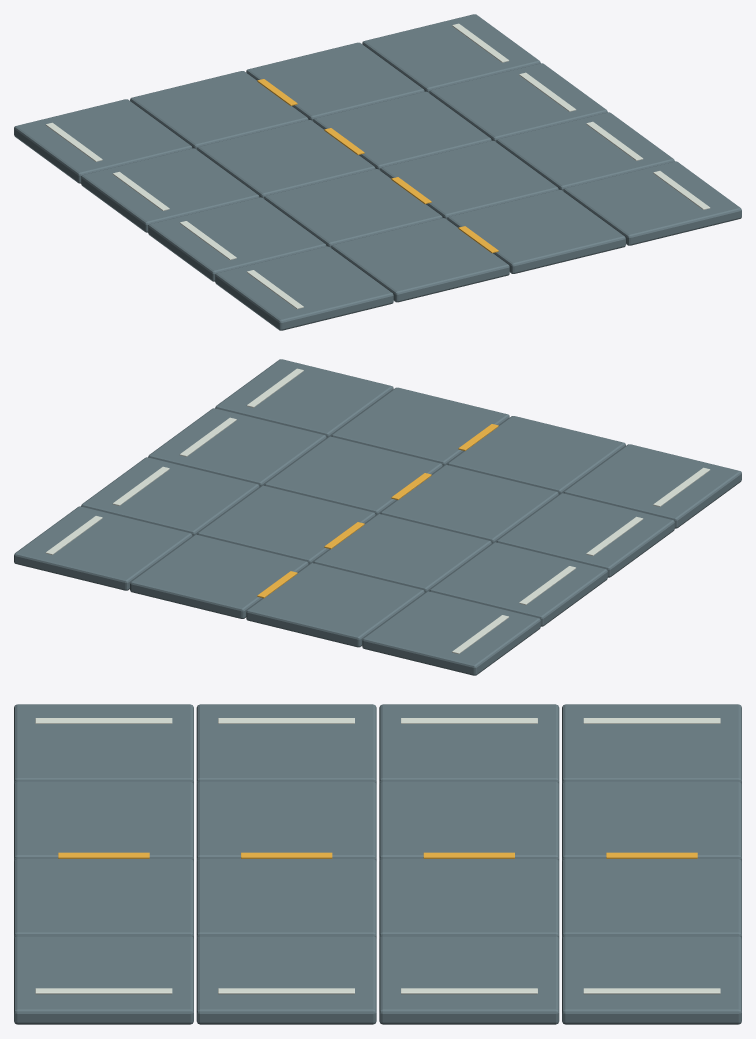
The model's file is road_straight_d0.glb.
3 views of the same model, one above another, from view 1: azimuth 30°, elevation 25°; view 2: azimuth 150°, elevation 25°; view 3: azimuth 270°, elevation 25° (orthographic). The views are drawn at different scales.
Visible parts, largest first — view 1: Road panel, Road panel.004, Road panel.008, Road panel.012, Road panel.001, Road panel.002, Road panel.003, Road panel.007, Road panel.005, Road panel.006, Road panel.009, Road panel.011 (+4 smaller); view 2: Road panel.003, Road panel.007, Road panel.011, Road panel.015, Road panel.001, Road panel.002, Road panel, Road panel.004, Road panel.005, Road panel.006, Road panel.010, Road panel.008 (+4 smaller); view 3: Road panel.013, Road panel.014, Road panel.012, Road panel.015, Road panel.009, Road panel.010, Road panel.008, Road panel.011, Road panel.005, Road panel.006, Road panel.004, Road panel.007 (+16 smaller).
Boxes of the visible parts, bbox=[...] form: Road panel: bbox=[215, 246, 393, 330]; Road panel.004: bbox=[331, 218, 509, 302]; Road panel.008: bbox=[447, 189, 625, 273]; Road panel.012: bbox=[563, 161, 741, 245]; Road panel.001: bbox=[148, 197, 326, 281]; Road panel.002: bbox=[81, 148, 259, 232]; Road panel.003: bbox=[14, 99, 192, 183]; Road panel.007: bbox=[130, 71, 308, 149]; Road panel.005: bbox=[264, 169, 442, 247]; Road panel.006: bbox=[197, 120, 375, 198]; Road panel.009: bbox=[380, 140, 558, 219]; Road panel.011: bbox=[246, 42, 424, 121]; Road panel.003: bbox=[362, 591, 540, 675]; Road panel.007: bbox=[246, 563, 424, 647]; Road panel.011: bbox=[130, 534, 308, 618]; Road panel.015: bbox=[14, 506, 192, 590]; Road panel.001: bbox=[496, 493, 674, 577]; Road panel.002: bbox=[429, 542, 607, 626]; Road panel: bbox=[563, 444, 741, 528]; Road panel.004: bbox=[447, 416, 625, 494]; Road panel.005: bbox=[380, 465, 558, 543]; Road panel.006: bbox=[313, 514, 491, 592]; Road panel.010: bbox=[197, 485, 375, 564]; Road panel.008: bbox=[331, 387, 509, 466]; Road panel.013: bbox=[196, 936, 376, 1024]; Road panel.014: bbox=[379, 936, 559, 1024]; Road panel.012: bbox=[14, 936, 193, 1024]; Road panel.015: bbox=[562, 936, 741, 1024]; Road panel.009: bbox=[196, 859, 376, 938]; Road panel.010: bbox=[379, 859, 559, 938]; Road panel.008: bbox=[14, 859, 193, 938]; Road panel.011: bbox=[562, 859, 741, 938]; Road panel.005: bbox=[196, 781, 376, 861]; Road panel.006: bbox=[379, 781, 559, 861]; Road panel.004: bbox=[14, 781, 193, 861]; Road panel.007: bbox=[562, 781, 741, 861].
Bounding box in the file's own units: 7.97 × 0.2075 × 7.97.
